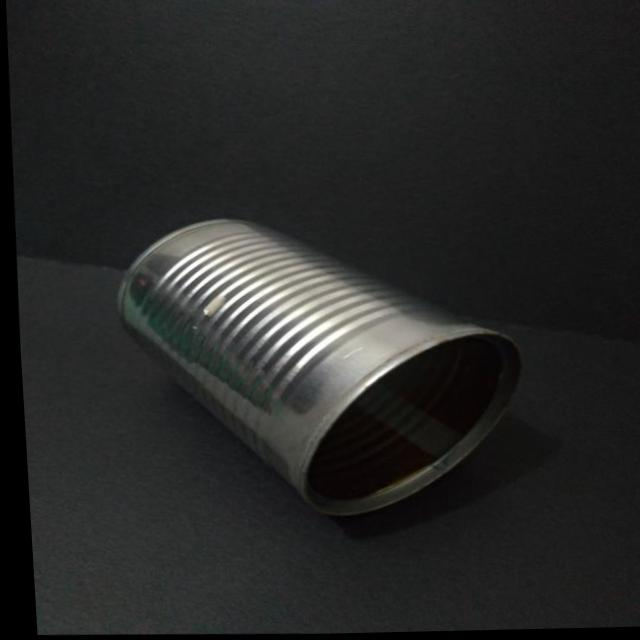metal: (119, 219, 519, 515)
